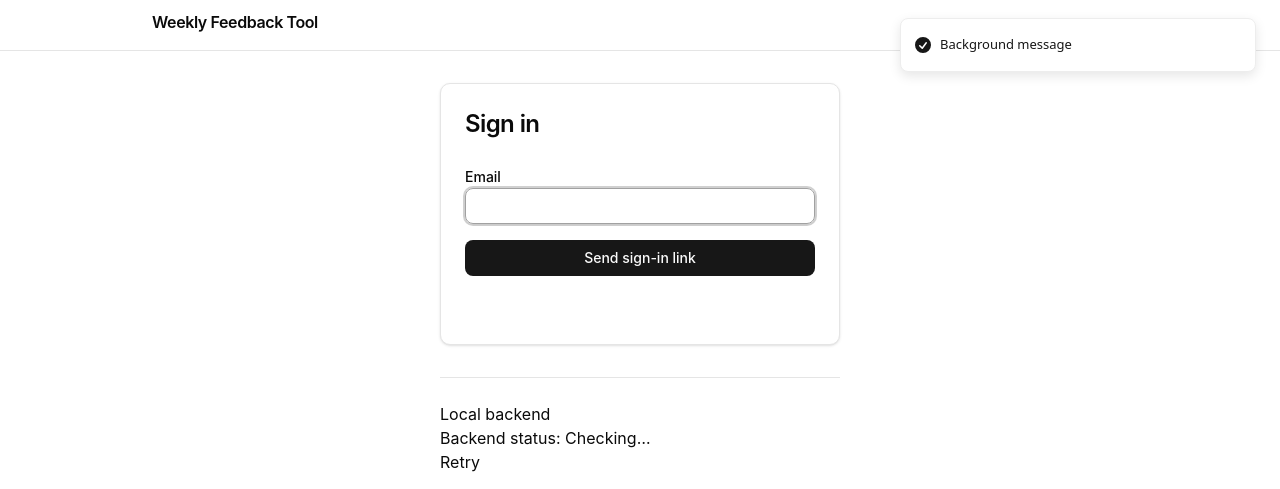
Test: Toaster › does not steal focus or block the login form
Expected: the text "Background message" is shown, [940,35,1072,54]
Type "dev@example.com" into the field labelled "Email" at (640, 206), box [465,188,815,224]
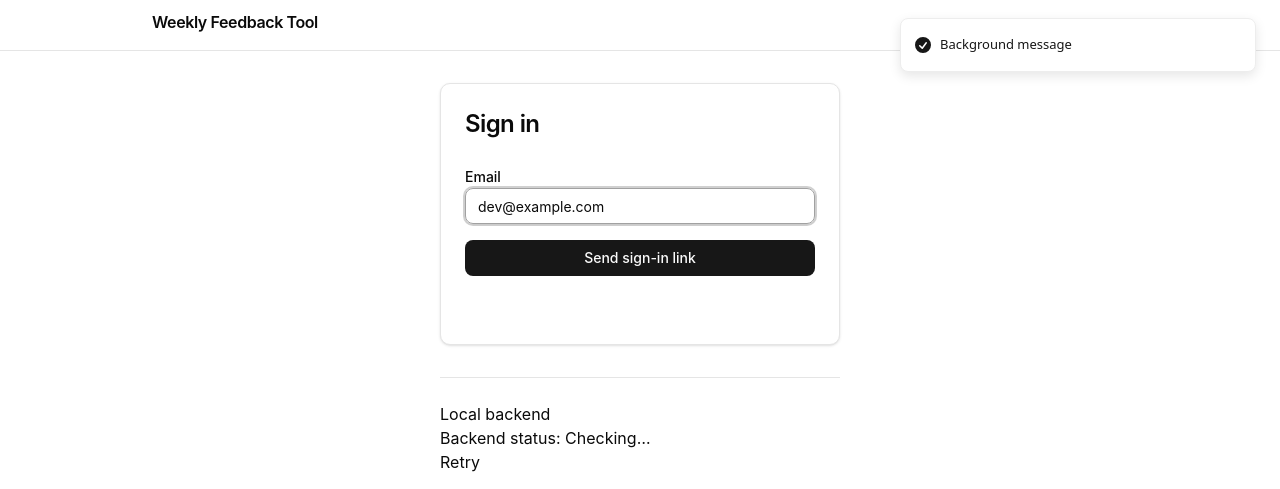
Click the button "Send sign-in link" at (640, 258), box [465,240,815,276]
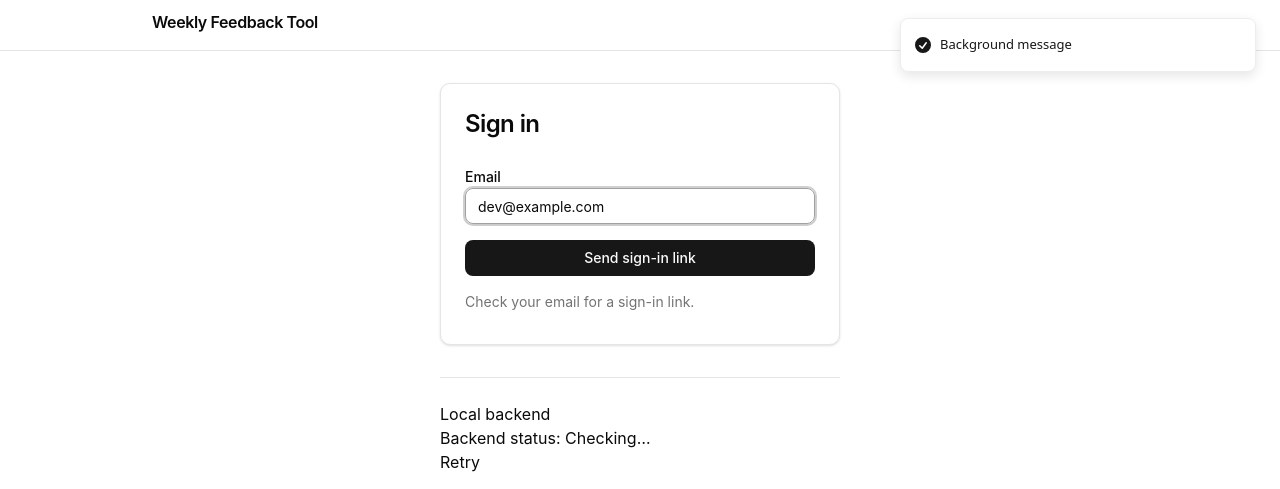
Expected: the text "Background message" is shown, [940,35,1072,54]
Now the message with id "login-status" reads "Check your email for a sign-in link.", box [465,293,694,310]
